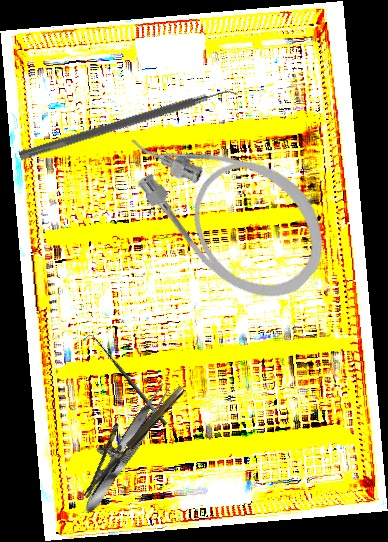Cannula: (103, 82, 350, 324)
Hook Surgical: (82, 329, 169, 432)
Needle Holder: (65, 371, 187, 499)
Spatula Surgical: (18, 81, 240, 171)
Tissue Forceps: (77, 378, 176, 519)
